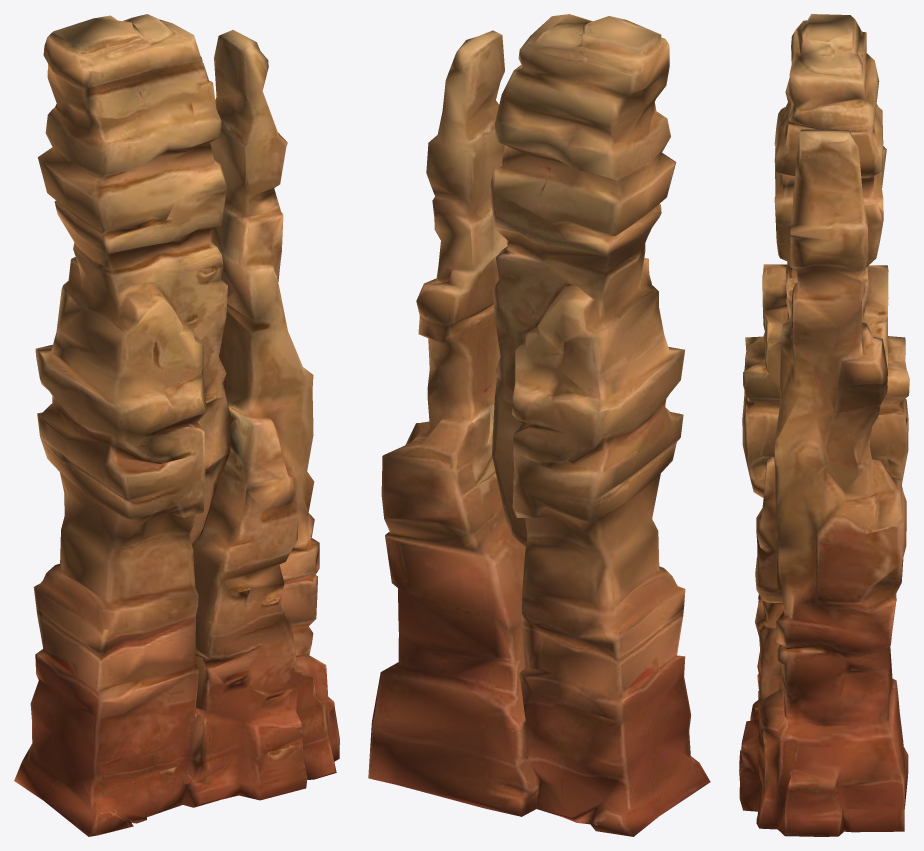
Rendered from rocks.glb.
3 renders of one model, left to right at view 1: azimuth 30°, elevation 25°; view 2: azimuth 150°, elevation 25°; view 3: azimuth 270°, elevation 25°, orthographic. The views are drawn at different scales.
Bounding box in the file's own units: 0.352 × 0.9507 × 0.207.
1 material, 1 textured.
